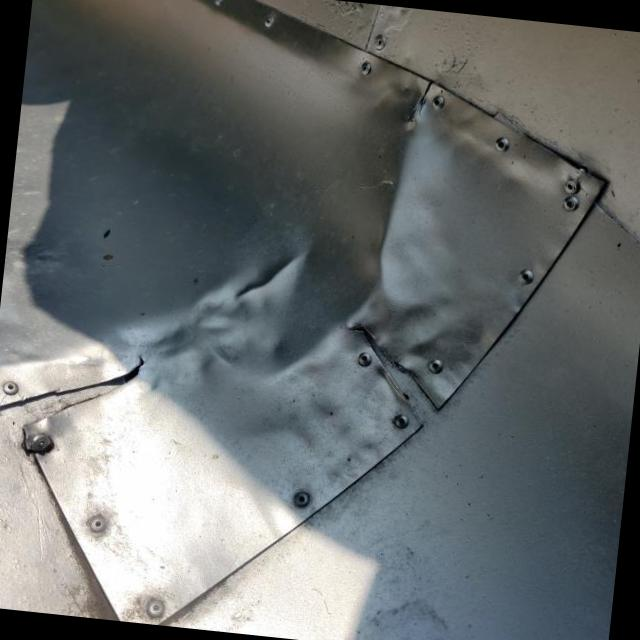Crack: (0, 362, 141, 426), (354, 326, 435, 424), (403, 81, 441, 131)
Dent: (120, 50, 424, 376)
